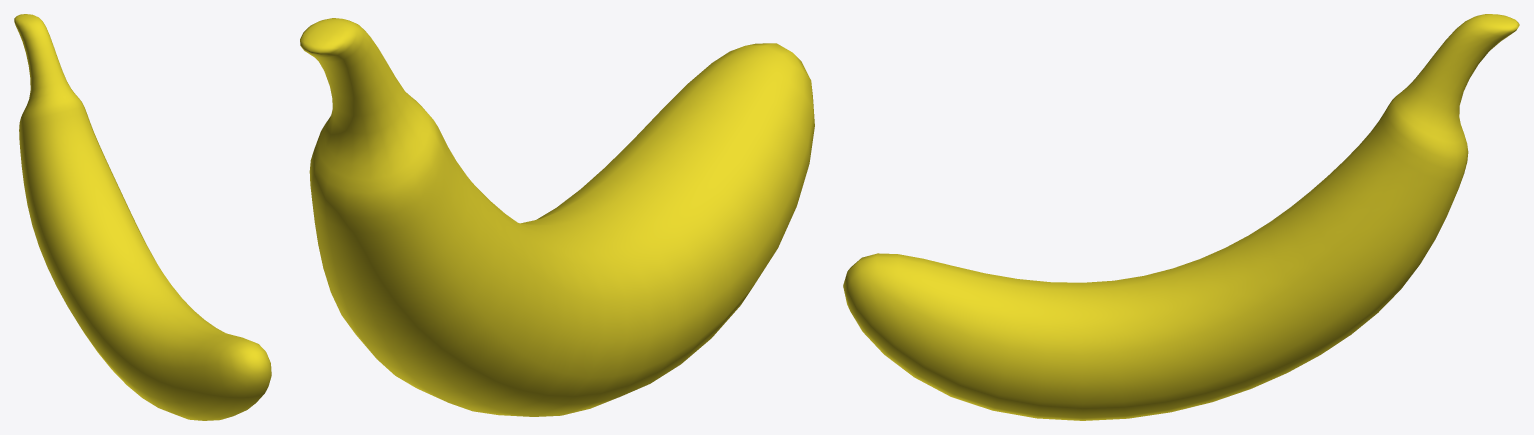
File: banana.glb
3 views of the same model, side by side, from view 1: azimuth 30°, elevation 25°; view 2: azimuth 150°, elevation 25°; view 3: azimuth 270°, elevation 25° (orthographic). The views are drawn at different scales.
Visible parts, largest first — view 1: Cube_0; view 2: Cube_0; view 3: Cube_0.
Boxes of the visible parts, left/top/right/bottom form: Cube_0: left=14, top=14, right=271, bottom=420; Cube_0: left=300, top=18, right=814, bottom=416; Cube_0: left=843, top=14, right=1519, bottom=420.
Size of the model in its own units: 1.83 by 5.69 by 8.82.
Materials: 1 (1 with a texture image).
